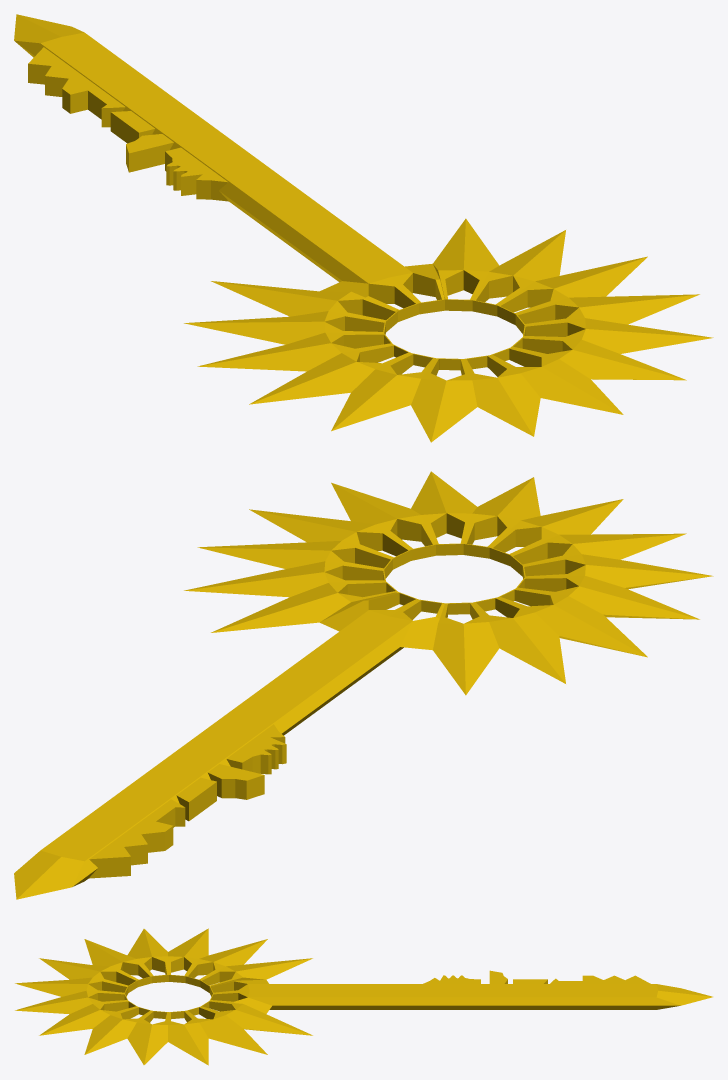
File: KeyTest.glb
3 views of the same model, one above another, from view 1: azimuth 30°, elevation 25°; view 2: azimuth 150°, elevation 25°; view 3: azimuth 270°, elevation 25° (orthographic). The views are drawn at different scales.
Parts seen in each view (by area): view 1: Circle, Cube, Cube.001, Cube.002, Cube.008, Cube.003; view 2: Circle, Cube, Cube.001, Cube.002, Cube.008, Cube.003; view 3: Circle, Cube, Cube.001.
Part boxes in pixels (bbox=[...]): Circle: bbox=[14, 14, 713, 442]; Cube: bbox=[28, 47, 98, 113]; Cube.001: bbox=[165, 147, 228, 201]; Cube.002: bbox=[126, 134, 173, 172]; Cube.008: bbox=[110, 111, 154, 143]; Cube.003: bbox=[88, 87, 125, 127]; Circle: bbox=[14, 471, 713, 899]; Cube: bbox=[89, 818, 173, 878]; Cube.001: bbox=[226, 724, 286, 774]; Cube.002: bbox=[207, 764, 264, 799]; Cube.008: bbox=[176, 777, 216, 821]; Cube.003: bbox=[145, 799, 185, 827]; Circle: bbox=[15, 928, 712, 1065]; Cube: bbox=[582, 975, 650, 983]; Cube.001: bbox=[423, 975, 480, 983].
Bounding box in the file's own units: 3.05 × 0.1303 × 6.58.
